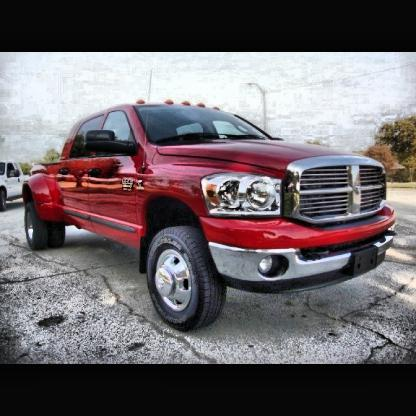Dodge Ram Pickup 3500 Quad Cab 2009: (22, 99, 400, 335)
